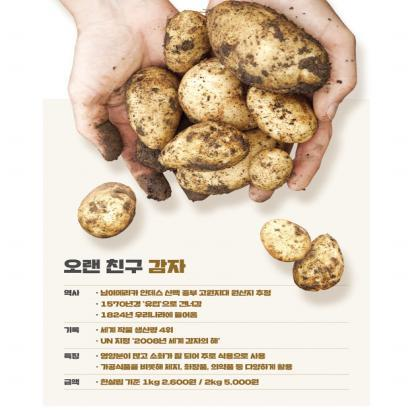potato: (204, 0, 336, 96), (176, 48, 268, 134), (140, 116, 254, 182), (118, 67, 194, 150), (279, 231, 362, 294), (244, 207, 325, 268), (75, 172, 140, 246), (242, 86, 318, 146), (155, 12, 214, 72)
